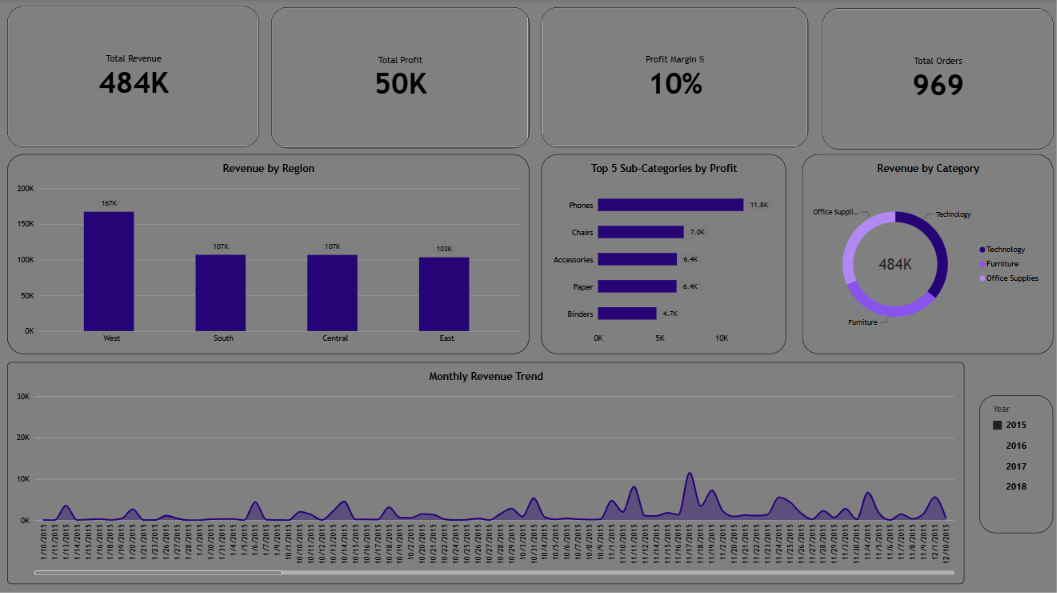

What the dashboard file says about the page in this screenshot:
{"tool":"powerbi","page":{"name":"Page 1","canvas":[1920,1080],"ordinal":0},"visuals":[{"type":"cardVisual","fields":{"Data":["KeyMeasures (2).Total Revenue"]},"box":[14.5,12.7,456,255.2],"z":0},{"type":"cardVisual","fields":{"Data":["KeyMeasures (2).Profit Margin %"]},"box":[980.8,14.5,483.2,253.4],"z":1000},{"type":"cardVisual","fields":{"Data":["KeyMeasures (2).Total Orders"]},"box":[1489.4,16.3,418,255.2],"z":2000},{"type":"areaChart","title":"Monthly Revenue Trend","fields":{"Category":["fact_sales.YearMonth"],"Y":["KeyMeasures (2).Total Revenue"]},"box":[14.5,656.9,1731.8,401.7],"z":3000},{"type":"donutChart","title":"Revenue by Category","fields":{"Category":["dim_product.Category"],"Y":["KeyMeasures (2).Total Revenue"]},"box":[1453.2,280.5,454.2,361.9],"z":4000},{"type":"clusteredBarChart","title":"Top 5 Sub-Categories by Profit","fields":{"Category":["dim_product.Sub-Category"],"Y":["KeyMeasures (2).Total Profit"]},"box":[980.8,280.5,443.4,361.9],"z":5000},{"type":"clusteredColumnChart","title":"Revenue by Region","fields":{"Category":["dim_customer.Region"],"Y":["KeyMeasures (2).Total Revenue"]},"box":[14.5,280.5,944.6,361.9],"z":6000},{"type":"slicer","fields":{"Values":["fact_sales.Year"]},"box":[1773.5,716.6,133.9,249.7],"z":7000},{"type":"cardVisual","fields":{"Data":["KeyMeasures (2).Total Profit"]},"box":[492.2,14.5,466.9,255.2],"z":8000}]}

Visuals, with their boxes in screenshot pixels (x1, y1, x2, y2), scaled from the page's 1920x1080 canvas onto the 1057x593 screenshot:
cardVisual - KeyMeasures (2).Total Revenue: bbox=[8, 7, 259, 147]
cardVisual - KeyMeasures (2).Profit Margin %: bbox=[540, 8, 806, 147]
cardVisual - KeyMeasures (2).Total Orders: bbox=[820, 9, 1050, 149]
"Monthly Revenue Trend" areaChart: bbox=[8, 361, 961, 581]
"Revenue by Category" donutChart: bbox=[800, 154, 1050, 353]
"Top 5 Sub-Categories by Profit" clusteredBarChart: bbox=[540, 154, 784, 353]
"Revenue by Region" clusteredColumnChart: bbox=[8, 154, 528, 353]
slicer - fact_sales.Year: bbox=[976, 393, 1050, 531]
cardVisual - KeyMeasures (2).Total Profit: bbox=[271, 8, 528, 148]
